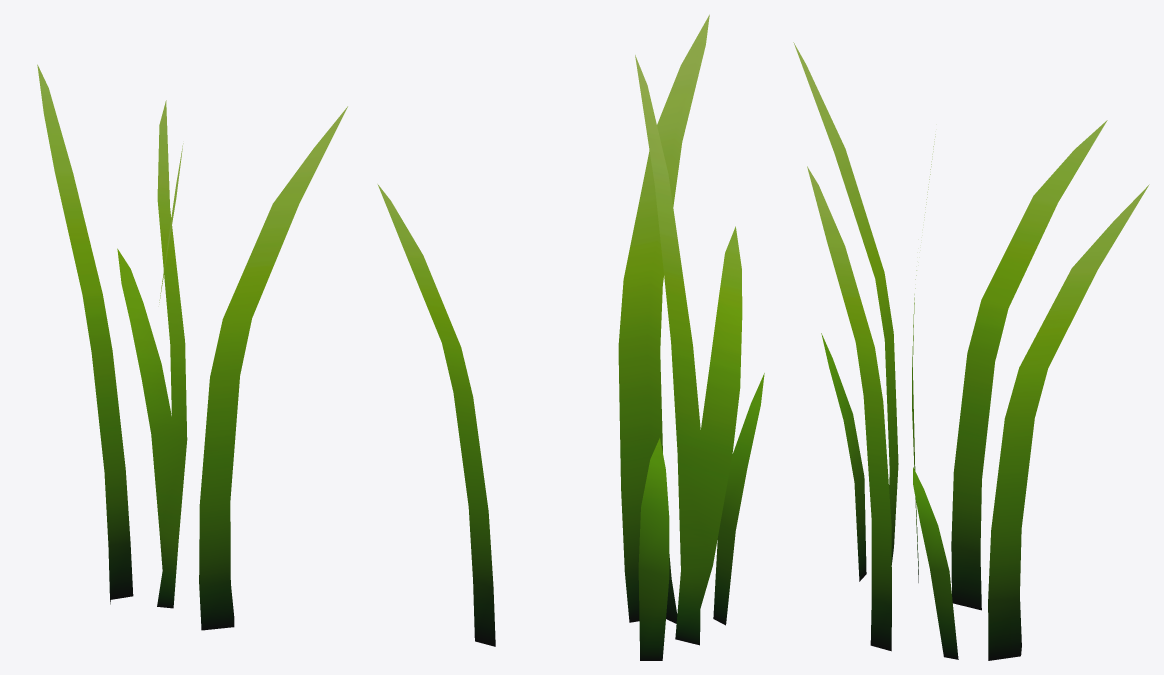
Rendered from grass.glb.
The picture shows the model from 3 angles, left to right: view 1: azimuth 30°, elevation 25°; view 2: azimuth 150°, elevation 25°; view 3: azimuth 270°, elevation 25°; orthographic projection. The views are drawn at different scales.
Parts seen in each view (by area): view 1: Grass_Common_Short; view 2: Grass_Common_Short; view 3: Grass_Common_Short.
Part boxes in pixels (x1,y1,x2,y2): Grass_Common_Short: (37, 64, 347, 630); Grass_Common_Short: (377, 14, 764, 660); Grass_Common_Short: (793, 42, 1149, 660).
Size of the model in its own units: 0.6388 by 1.33 by 0.7373.
1 material, 1 textured.
